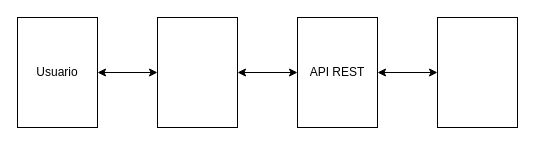
Image size: 535x145. Some labels were removed from this diagram. Each missing label, with the centre of its shape:
Bases de datos: pixel 477 72
Frontend: pixel 197 72
